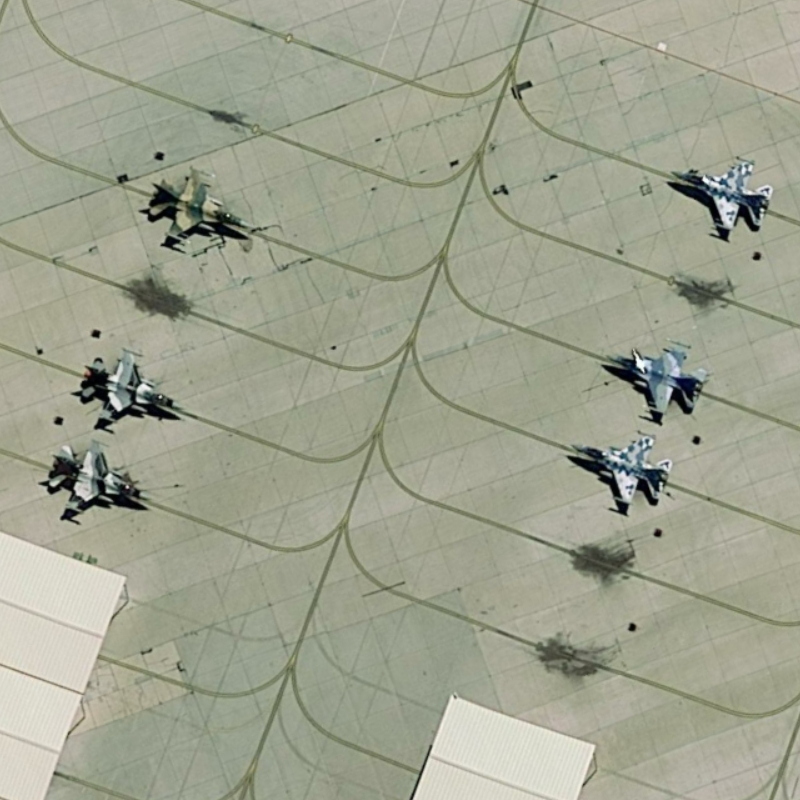A5: (656, 145, 781, 248), (71, 342, 206, 434), (39, 432, 169, 527), (133, 155, 257, 252), (598, 332, 715, 422), (562, 428, 679, 514)
